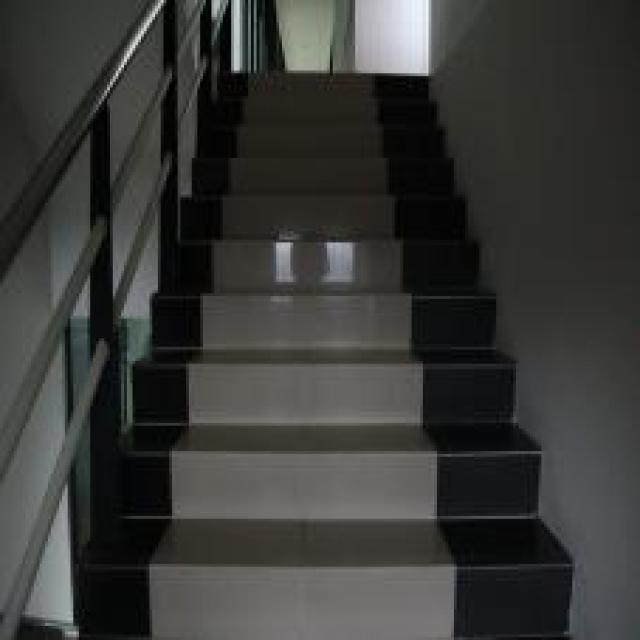upstair: (181, 146, 474, 538)
